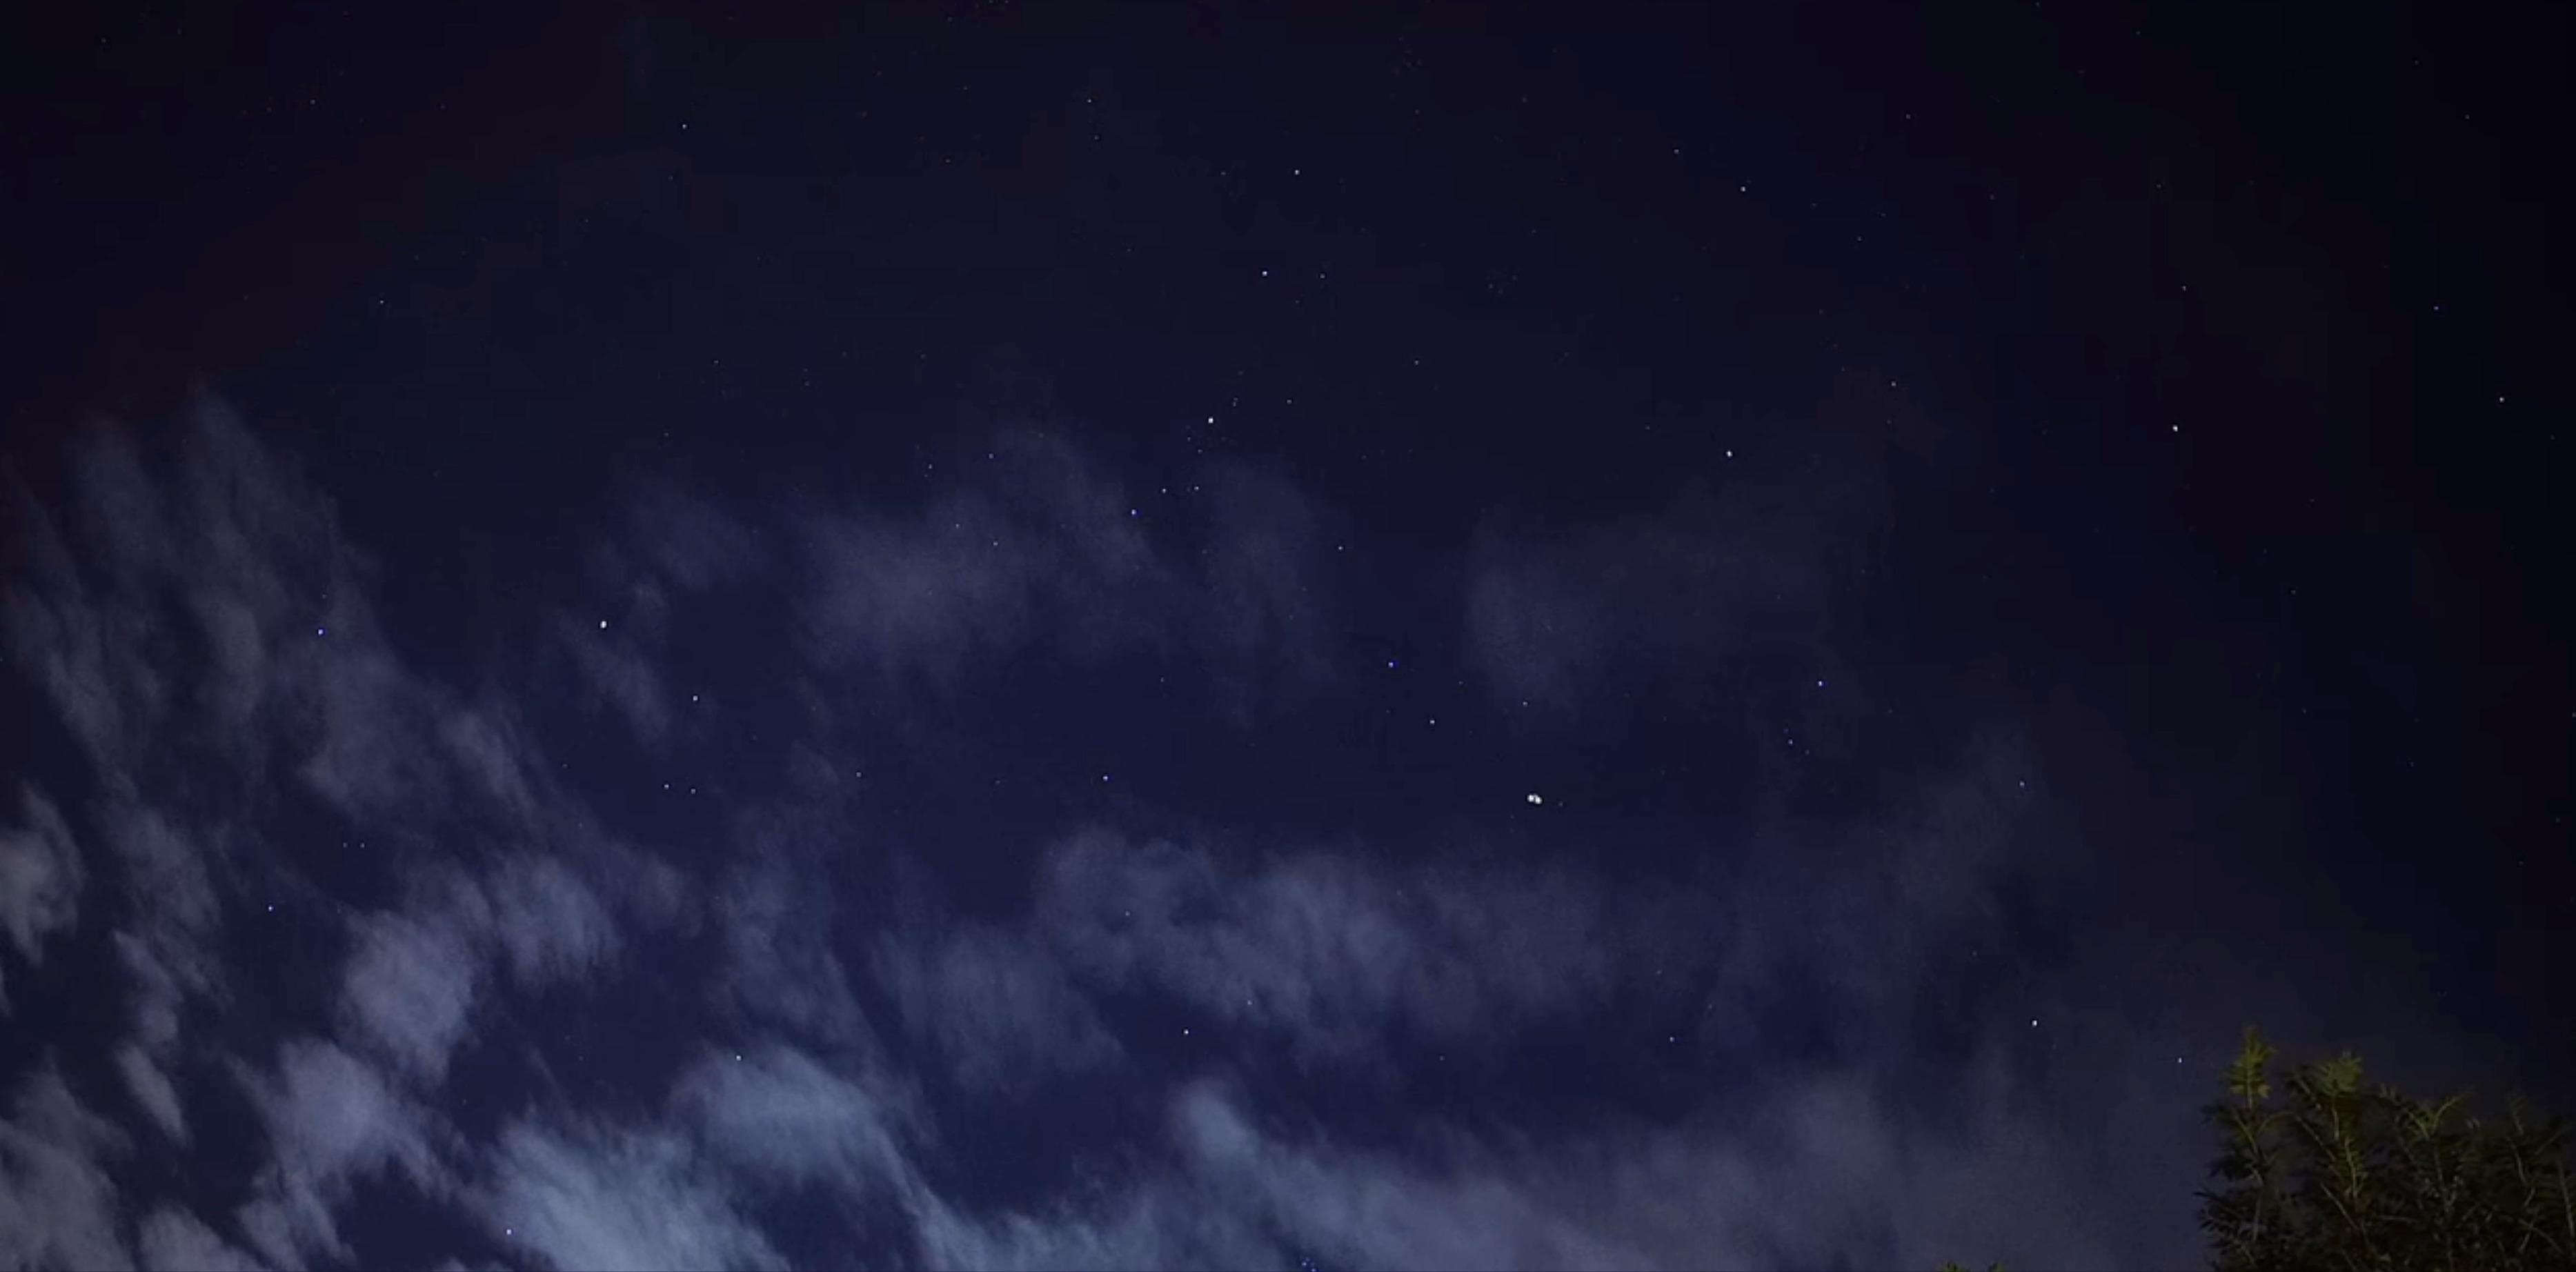Plane: (1505, 782, 1566, 813)
